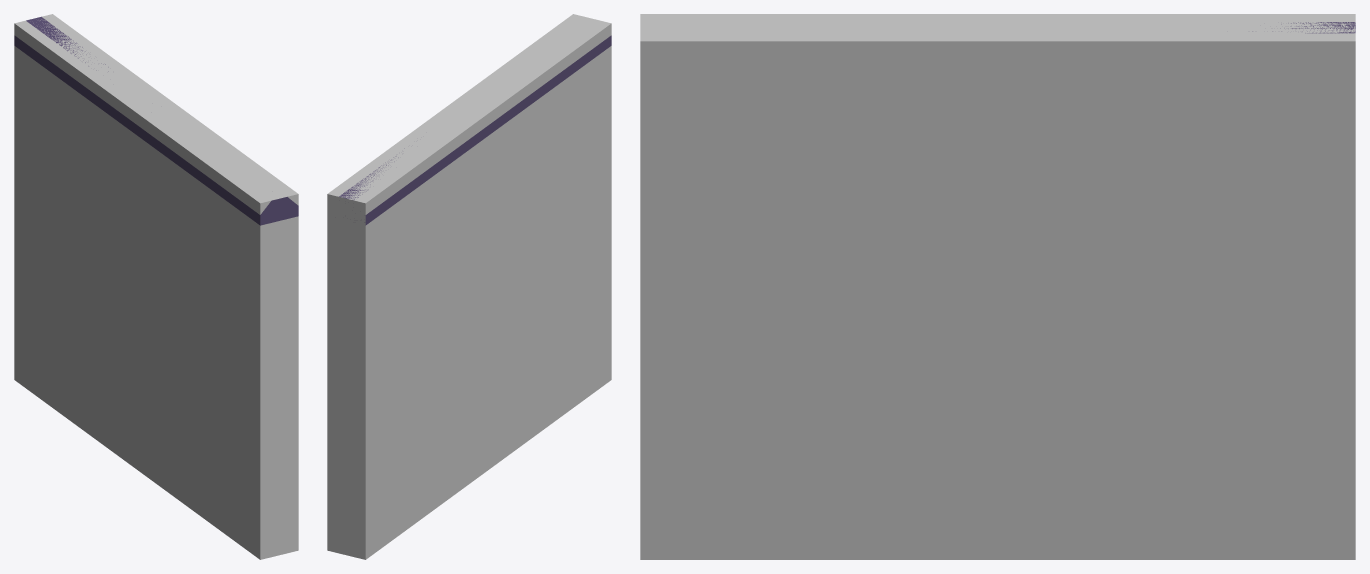
Rendered from SM_Train_Fence.fbx.
3 renders of one model, left to right at view 1: azimuth 30°, elevation 25°; view 2: azimuth 150°, elevation 25°; view 3: azimuth 270°, elevation 25°, orthographic. The views are drawn at different scales.
Parts seen in each view (by area): view 1: SM_Train_Fence_ConvexHulls, SM_Train_Fence; view 2: SM_Train_Fence_ConvexHulls, SM_Train_Fence; view 3: SM_Train_Fence_ConvexHulls.
Boxes of the visible parts, box(x1,y1,x2,y2) form: SM_Train_Fence_ConvexHulls: box(14, 14, 298, 559); SM_Train_Fence: box(14, 16, 298, 225); SM_Train_Fence_ConvexHulls: box(327, 14, 611, 559); SM_Train_Fence: box(339, 35, 611, 225); SM_Train_Fence_ConvexHulls: box(640, 14, 1355, 559).
Bounding box in the file's own units: 18 × 200 × 160.
2 materials, 1 textured.
